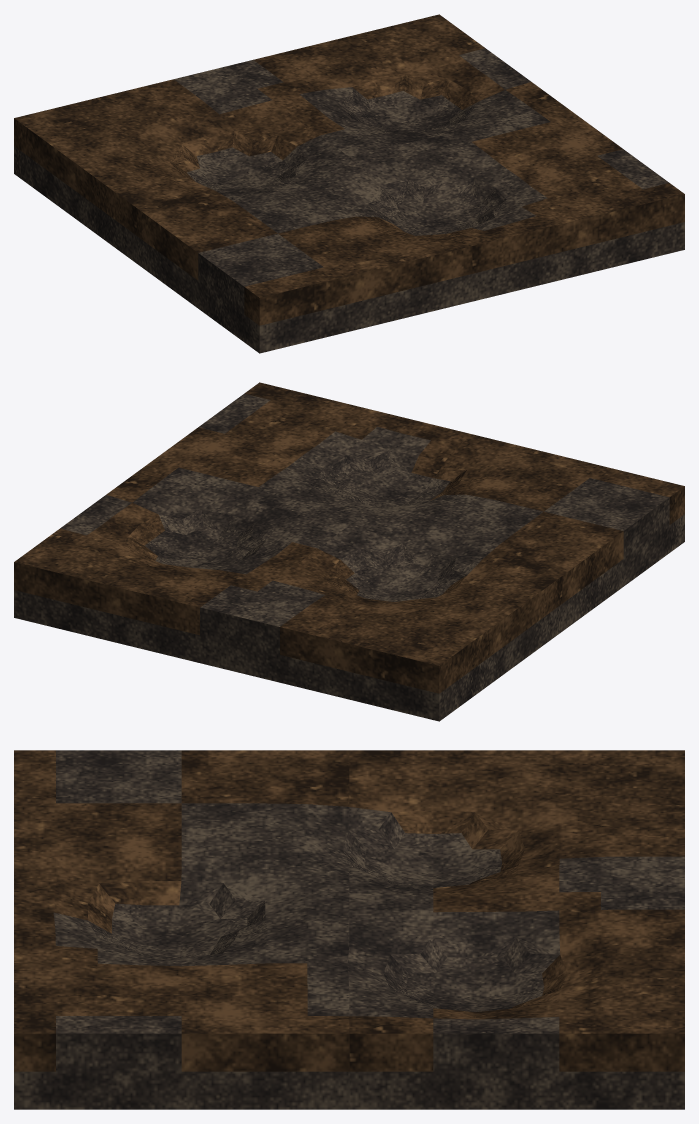
File: floor_mud.glb
3 views of the same model, one above another, from view 1: azimuth 30°, elevation 25°; view 2: azimuth 150°, elevation 25°; view 3: azimuth 270°, elevation 25° (orthographic). The views are drawn at different scales.
Parts seen in each view (by area): view 1: crypt_floor_mud; view 2: crypt_floor_mud; view 3: crypt_floor_mud.
Part boxes in pixels (x1,y1,x2,y2): crypt_floor_mud: [14, 14, 684, 353]; crypt_floor_mud: [14, 382, 684, 721]; crypt_floor_mud: [14, 750, 684, 1109].
Bounding box in the file's own units: 1 × 0.125 × 1.
Materials: 1 (1 with a texture image).
